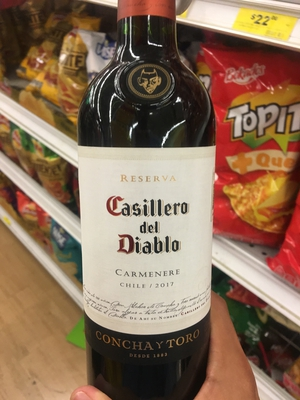casillero del diablo carmenere: (73, 14, 238, 395)
